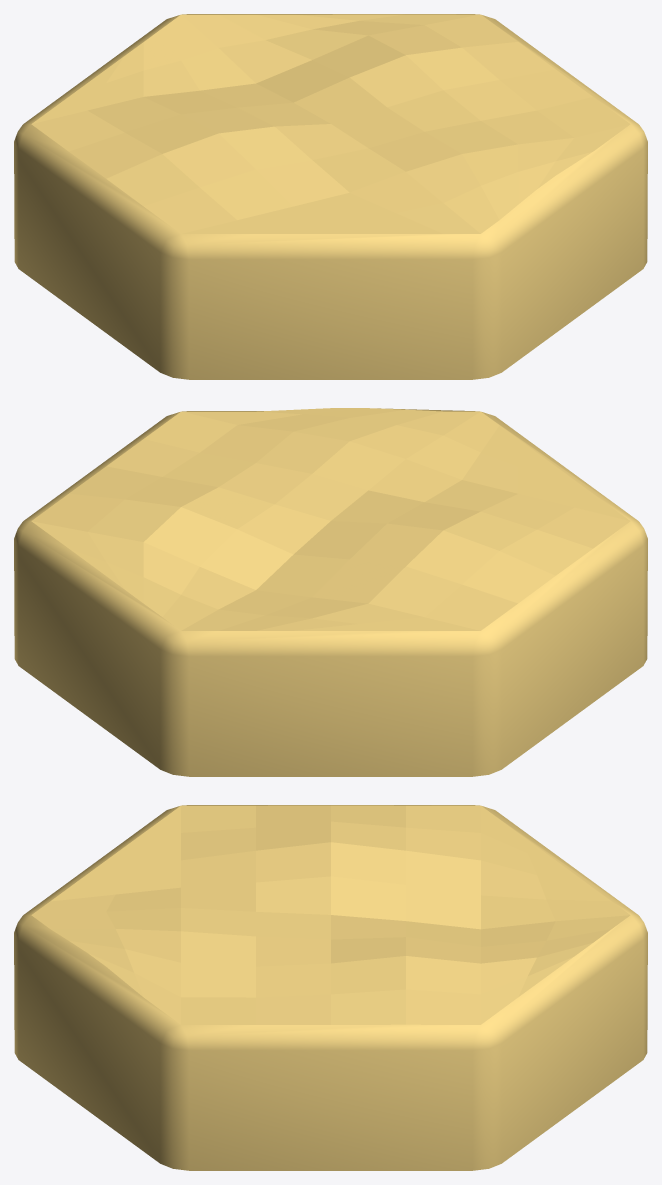
File: FBX_Desert_1.fbx
3 views of the same model, one above another, from view 1: azimuth 30°, elevation 25°; view 2: azimuth 150°, elevation 25°; view 3: azimuth 270°, elevation 25° (orthographic).
Parts seen in each view (by area): view 1: desert_base_1; view 2: desert_base_1; view 3: desert_base_1.
Boxes of the visible parts, left/top/right/bottom form: desert_base_1: left=14, top=14, right=647, bottom=379; desert_base_1: left=14, top=408, right=647, bottom=776; desert_base_1: left=14, top=805, right=647, bottom=1170.
Bounding box in the file's own units: 173 × 53.44 × 197.
